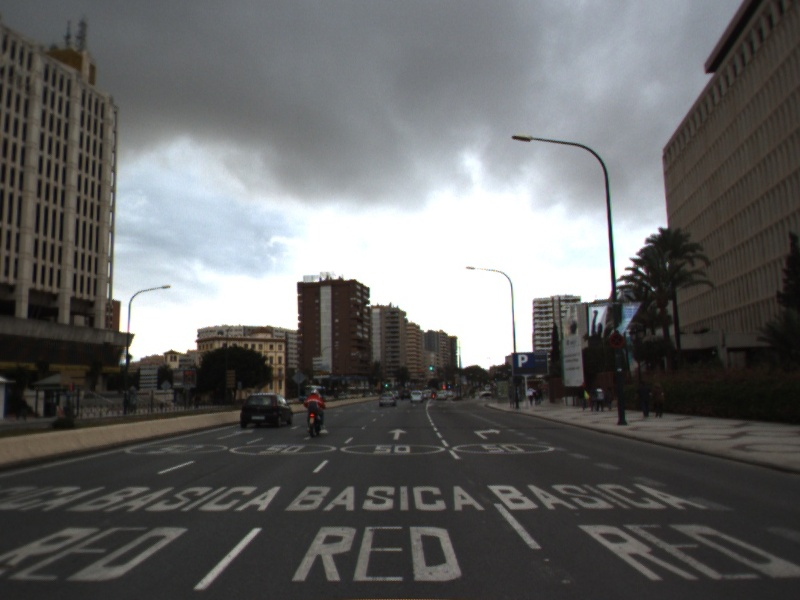RIGHT: (471, 426, 503, 441)
STRAIGHT: (214, 426, 257, 441), (385, 427, 410, 442)
